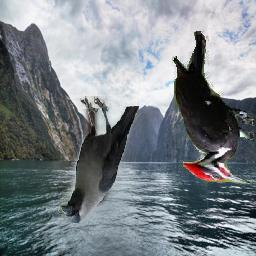Crow: (61, 97, 140, 224)
Woodpecker: (172, 32, 254, 185)
